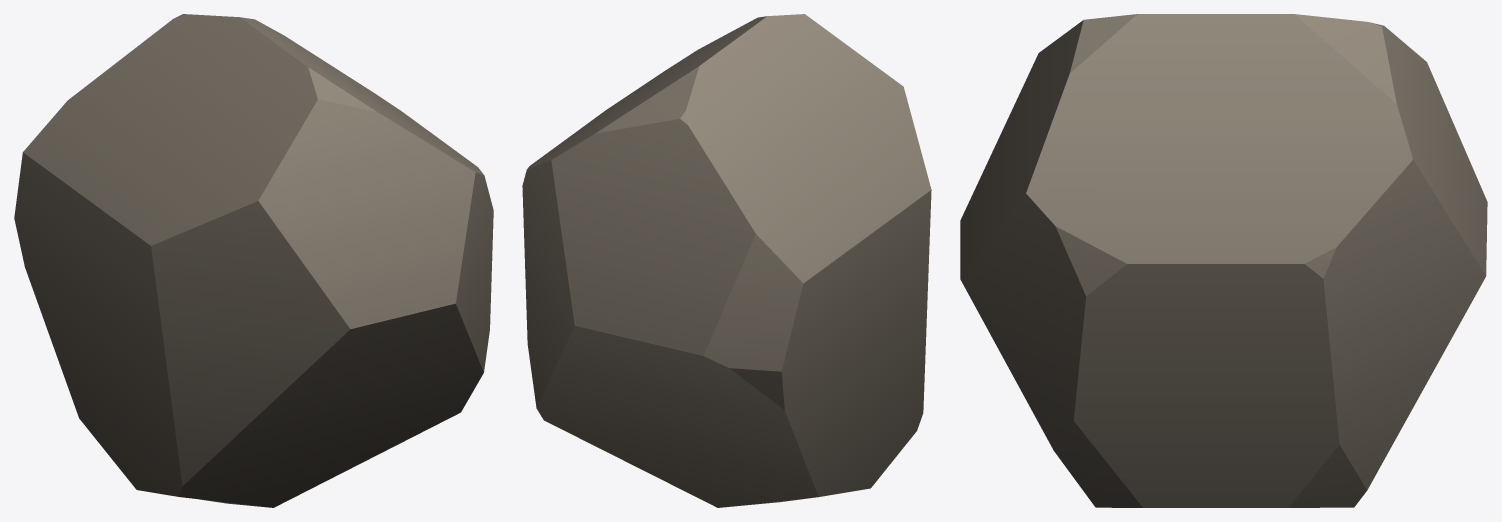
The model's file is Rock_02.fbx.
The picture shows the model from 3 angles, left to right: view 1: azimuth 30°, elevation 25°; view 2: azimuth 150°, elevation 25°; view 3: azimuth 270°, elevation 25°; orthographic projection. The views are drawn at different scales.
Visible parts, largest first — view 1: Rock_02; view 2: Rock_02; view 3: Rock_02.
Part boxes in pixels (x1,y1,x2,y2): Rock_02: (14,14,493,507); Rock_02: (522,14,931,507); Rock_02: (960,14,1487,507).
Bounding box in the file's own units: 1.17 × 1.54 × 1.43.
